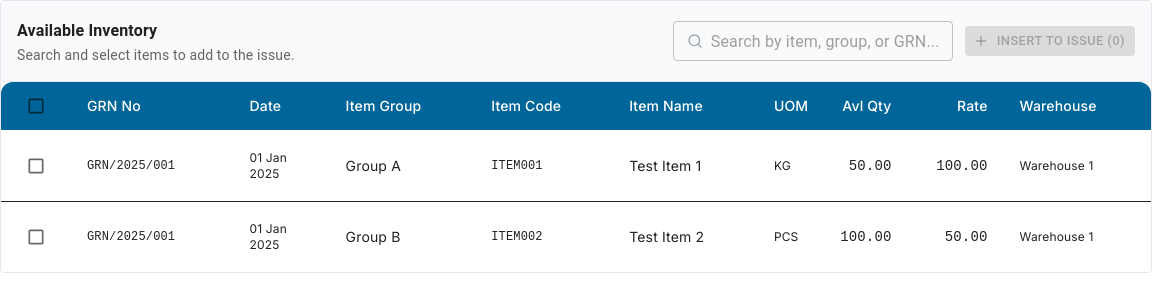
Test: InventorySearchTable › Selection › should select individual row on checkbox click
The width and height of the screenshot is (1152, 290).
Check: the text "Test Item 1" is shown, box [613, 130, 758, 201]
Click the first row checkbox
Click the checkbox in the row of "Group A".
click(36, 166)  # box [26, 156, 46, 176]
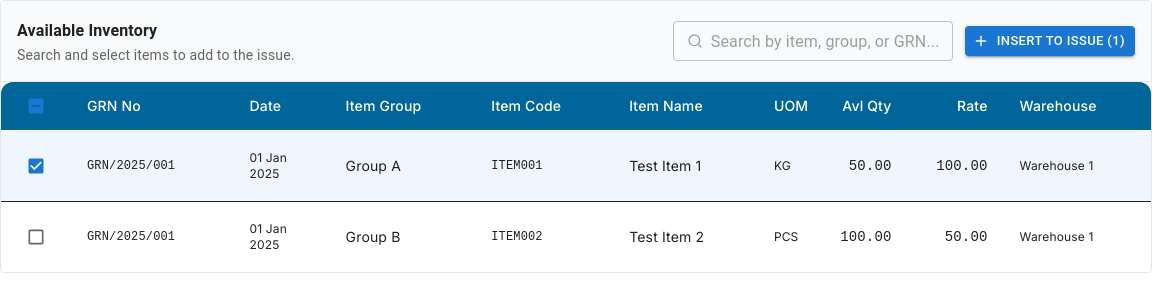
Check: the button "Insert to Issue (1)" is shown, box [965, 26, 1135, 56]
